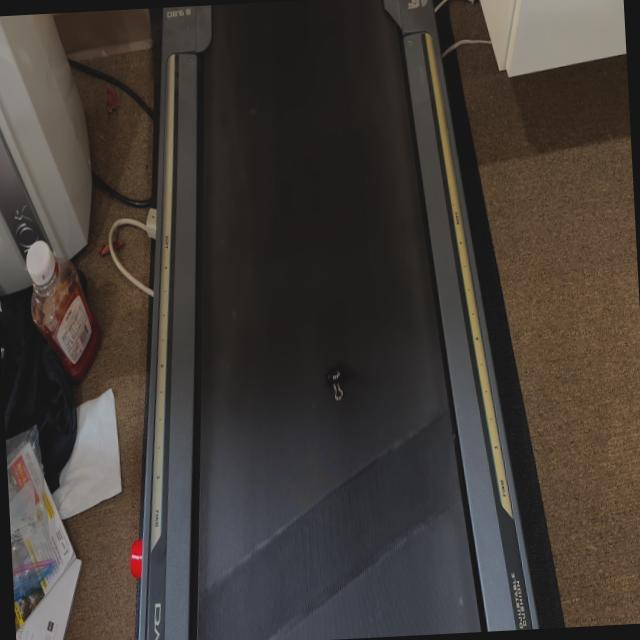Trash: (326, 359, 364, 428)
